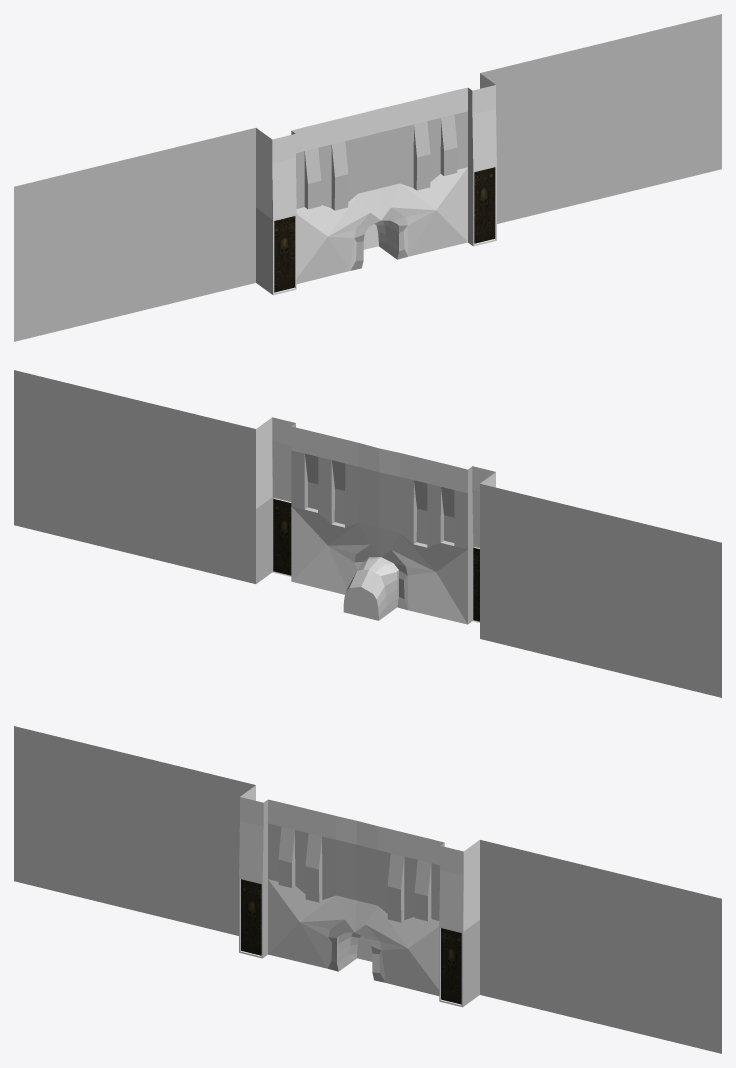
Rendered from massive2.glb.
3 renders of one model, top to bottom at view 1: azimuth 30°, elevation 25°; view 2: azimuth 150°, elevation 25°; view 3: azimuth 330°, elevation 25°, orthographic.
Visible parts, largest first — view 1: WALL_bricks1, WALL_stoneee, WALL_bricks2, WALL_steel; view 2: WALL_bricks1, WALL_stoneee, WALL_bricks2, WALL_steel; view 3: WALL_bricks1, WALL_stoneee, WALL_bricks2, WALL_steel.
Boxes of the visible parts, left/top/right/bottom form: WALL_bricks1: left=14, top=14, right=721, bottom=341; WALL_stoneee: left=296, top=167, right=467, bottom=283; WALL_bricks2: left=256, top=73, right=495, bottom=218; WALL_steel: left=272, top=85, right=496, bottom=219; WALL_bricks1: left=14, top=370, right=721, bottom=697; WALL_stoneee: left=291, top=506, right=467, bottom=624; WALL_bricks2: left=256, top=417, right=495, bottom=508; WALL_steel: left=272, top=417, right=495, bottom=546; WALL_bricks1: left=14, top=726, right=721, bottom=1053; WALL_stoneee: left=268, top=879, right=439, bottom=995; WALL_bricks2: left=240, top=785, right=479, bottom=930; WALL_steel: left=239, top=797, right=463, bottom=931.
Size of the model in its own units: 96.35 by 20.18 by 5.63.
Materials: 5 (1 with a texture image).
